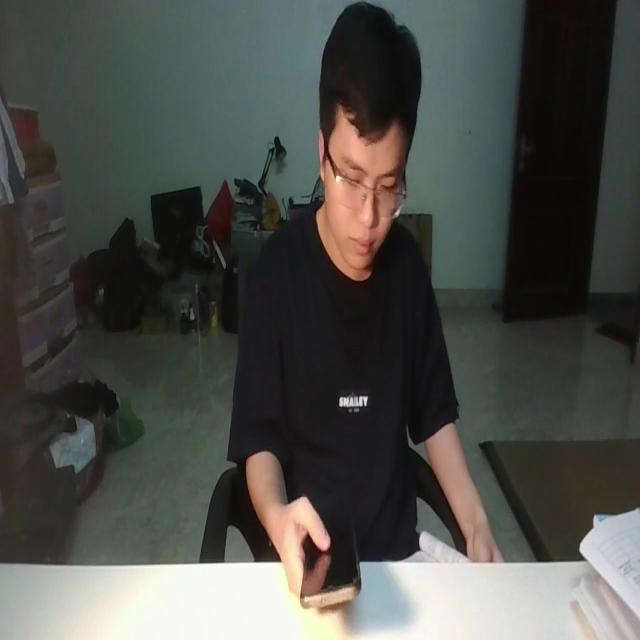book: (405, 527, 475, 565)
phone: (299, 521, 363, 608)
student: (234, 0, 508, 594)
